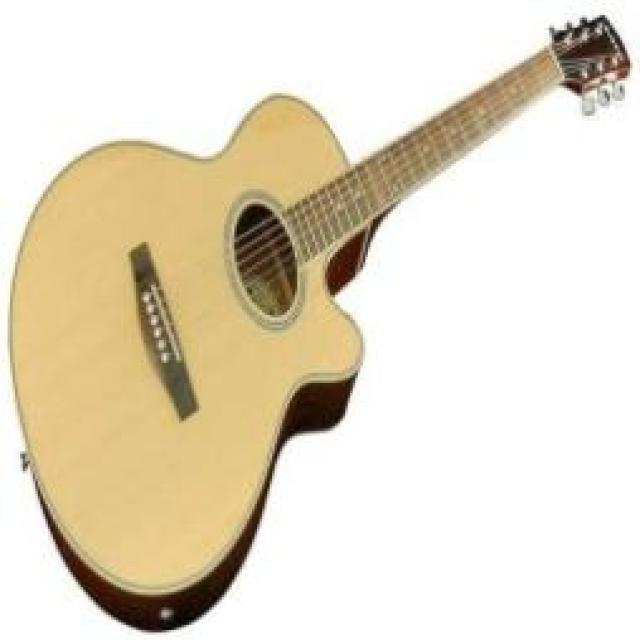acousticguitar: (8, 15, 630, 630)
